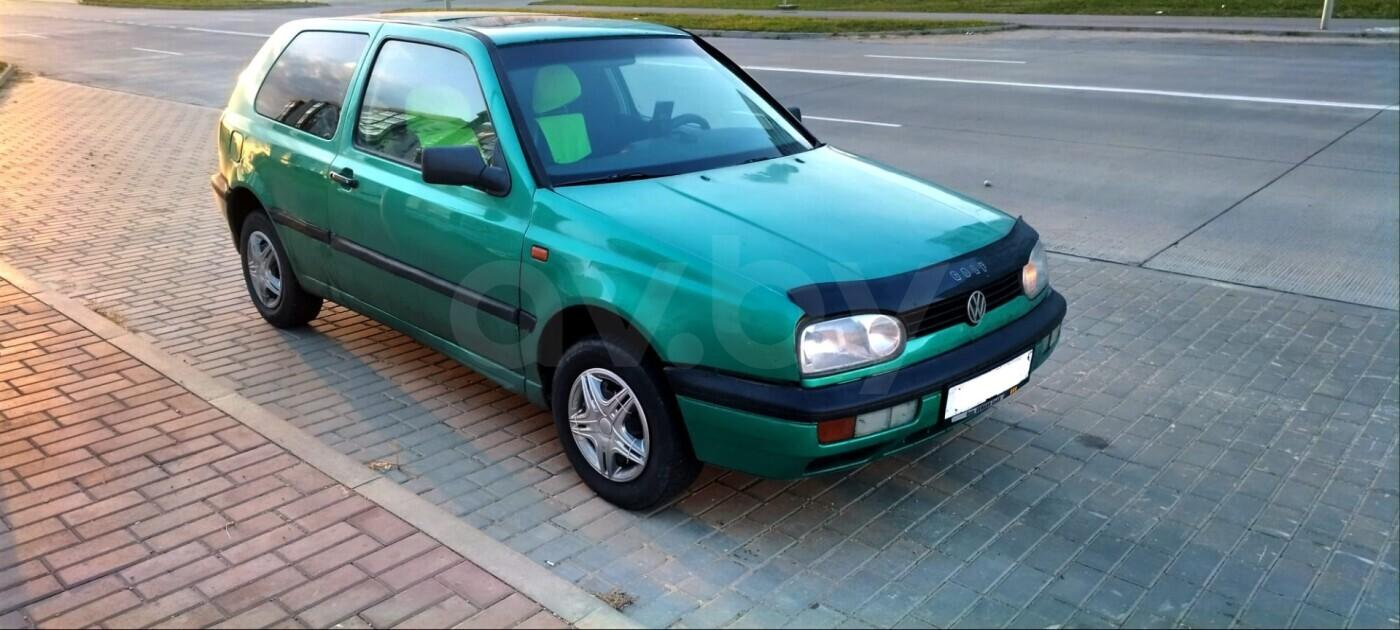Golf_1991-2000: (209, 7, 1065, 507)
